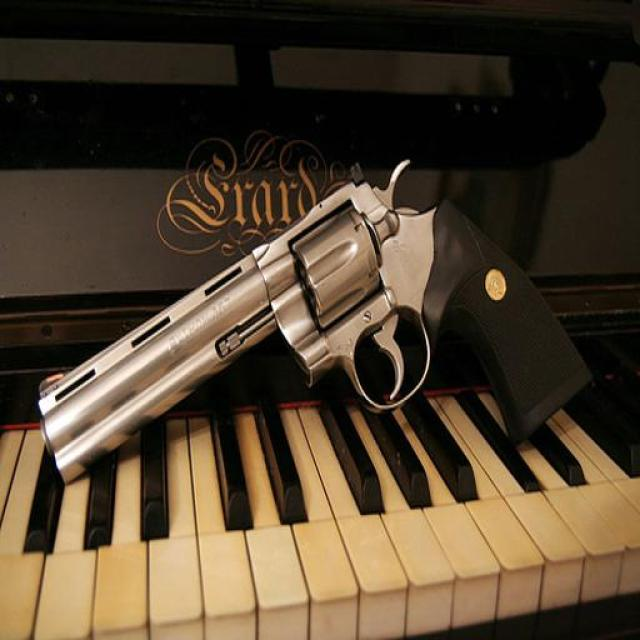pistol: (36, 158, 594, 484)
